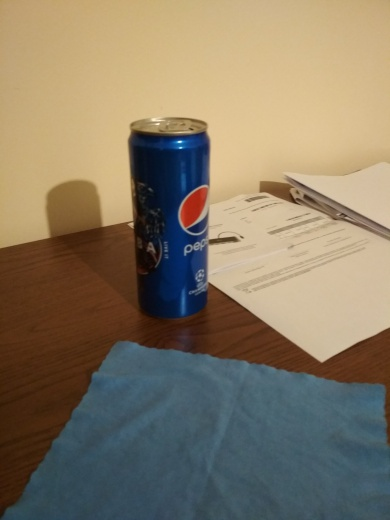pepsi: (120, 107, 224, 327)
